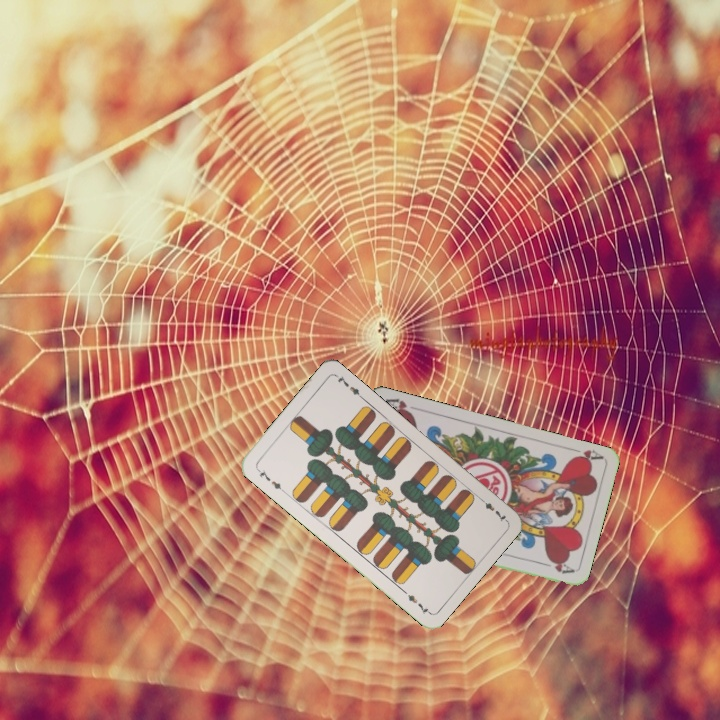E7: (475, 493, 509, 524), (253, 465, 287, 495)
HA: (564, 443, 604, 466)
